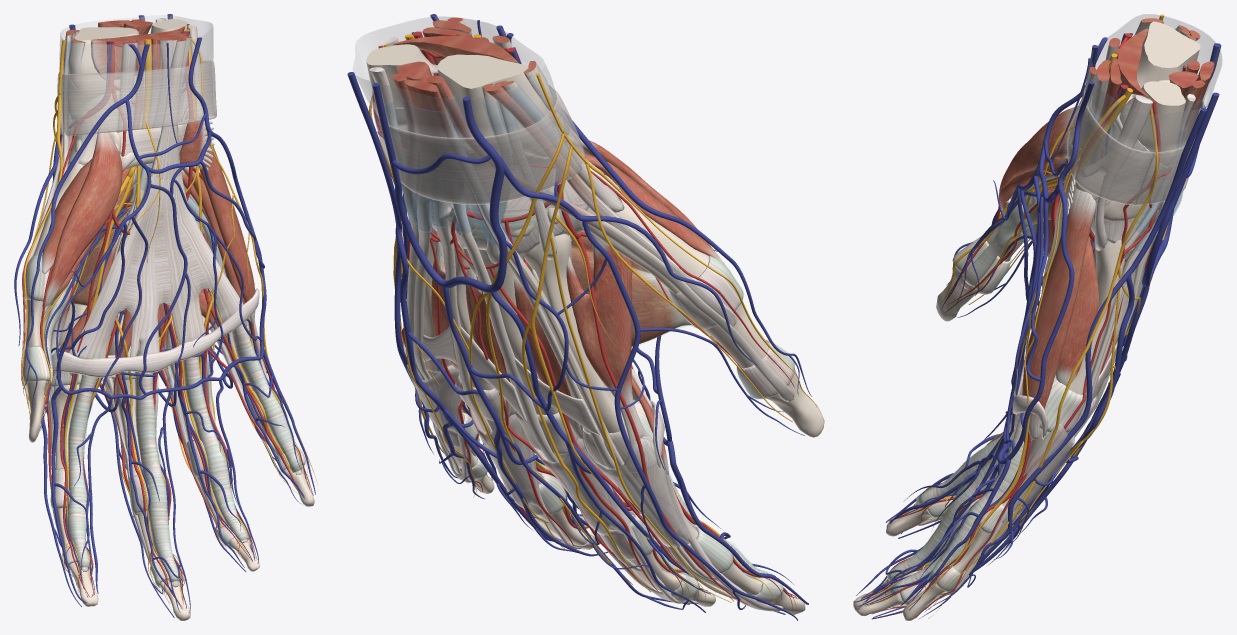
Rendered from open3dmodel-hand.glb.
3 renders of one model, left to right at view 1: azimuth 30°, elevation 25°; view 2: azimuth 150°, elevation 25°; view 3: azimuth 270°, elevation 25°, orthographic. The views are drawn at different scales.
Visible parts, largest first — view 1: Aponeurosis palmaris, Fibrous sheath of digits of hand, Palmar venous network of hand, Flexor retinaculum of wrist, Palmal digital veins, Abductor pollicis brevis, Antebrachial fascia, Palmar metacarpal veins, Superficial transverse metacarpal ligament, Proper palmar digital arteries, Abductor digiti minimi, Dorsal digital veins (+49 smaller); view 2: Extensor digitorum, Extensor retinaculum of wrist, Antebrachial fascia, Dorsal digital veins, Dorsal metatarsal veins, Radial nerve Dorsal digital nn, 1st dorsal interosseus of hand, Dorsal venous network of hand, Articular capsules of metacarpophalangeal joints, Articular capsule of radiocarpal joint, Radius, Extensor pollicis longus (+43 smaller); view 3: Palmar venous network of hand, Abductor digiti minimi, Antebrachial fascia, Flexor retinaculum of wrist, Fibrous sheath of digits of hand, Palmal digital veins, Dorsal digital veins, Opponens digiti minimi muscle of hand, Articular capsule of radiocarpal joint, Ulna, Common tendon of flexor carpi ulnaris, Radius (+36 smaller).
Boxes of the visible parts, x1,y1,x2,y2 form: Aponeurosis palmaris: [68, 174, 243, 358]; Fibrous sheath of digits of hand: [67, 322, 301, 582]; Palmar venous network of hand: [36, 43, 266, 399]; Flexor retinaculum of wrist: [60, 60, 216, 136]; Palmal digital veins: [23, 268, 315, 612]; Abductor pollicis brevis: [42, 123, 122, 307]; Antebrachial fascia: [59, 15, 213, 73]; Palmar metacarpal veins: [40, 218, 312, 609]; Superficial transverse metacarpal ligament: [51, 288, 259, 377]; Proper palmar digital arteries: [64, 304, 313, 607]; Abductor digiti minimi: [199, 130, 255, 325]; Dorsal digital veins: [14, 273, 309, 617]; Extensor digitorum: [404, 80, 716, 580]; Extensor retinaculum of wrist: [373, 101, 581, 204]; Antebrachial fascia: [352, 16, 556, 137]; Dorsal digital veins: [399, 298, 804, 620]; Dorsal metatarsal veins: [394, 215, 720, 449]; Radial nerve Dorsal digital nn: [469, 132, 817, 602]; 1st dorsal interosseus of hand: [566, 233, 652, 447]; Dorsal venous network of hand: [365, 116, 580, 292]; Articular capsules of metacarpophalangeal joints: [416, 256, 743, 472]; Articular capsule of radiocarpal joint: [398, 65, 603, 259]; Radius: [437, 54, 553, 156]; Extensor pollicis longus: [426, 75, 794, 401]; Palmar venous network of hand: [997, 58, 1090, 464]; Abductor digiti minimi: [1022, 188, 1096, 439]; Antebrachial fascia: [1084, 14, 1222, 152]; Flexor retinaculum of wrist: [1066, 87, 1155, 205]; Fibrous sheath of digits of hand: [887, 412, 1031, 595]; Palmal digital veins: [853, 180, 1010, 606]; Dorsal digital veins: [871, 241, 1103, 619]; Opponens digiti minimi muscle of hand: [1055, 236, 1098, 385]; Articular capsule of radiocarpal joint: [1091, 79, 1169, 251]; Ulna: [1119, 81, 1185, 165]; Common tendon of flexor carpi ulnaris: [1080, 95, 1152, 250]; Radius: [1132, 21, 1200, 95].
Size of the model in its own units: 0.1097 by 0.1855 by 0.1032.
45 materials, 7 textured.
